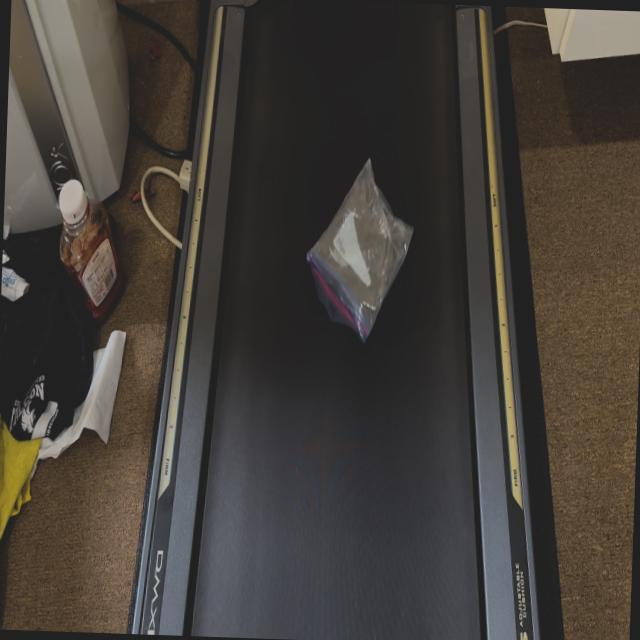Trash: (301, 158, 418, 348)
